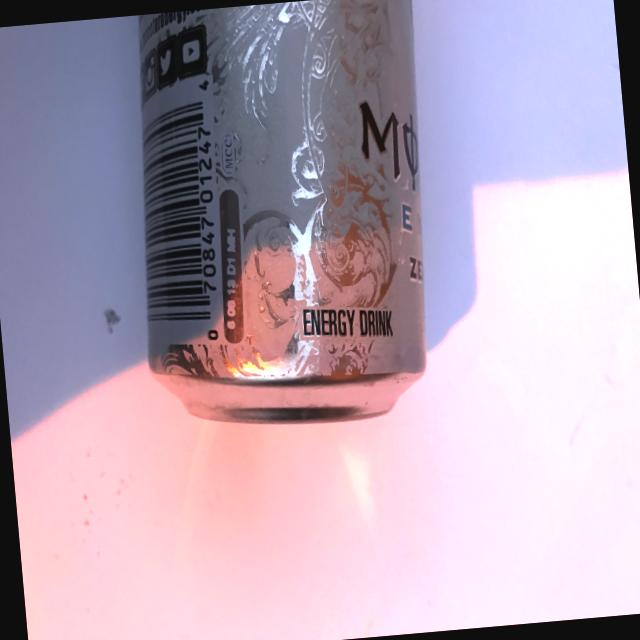Metal: (83, 0, 477, 470)
